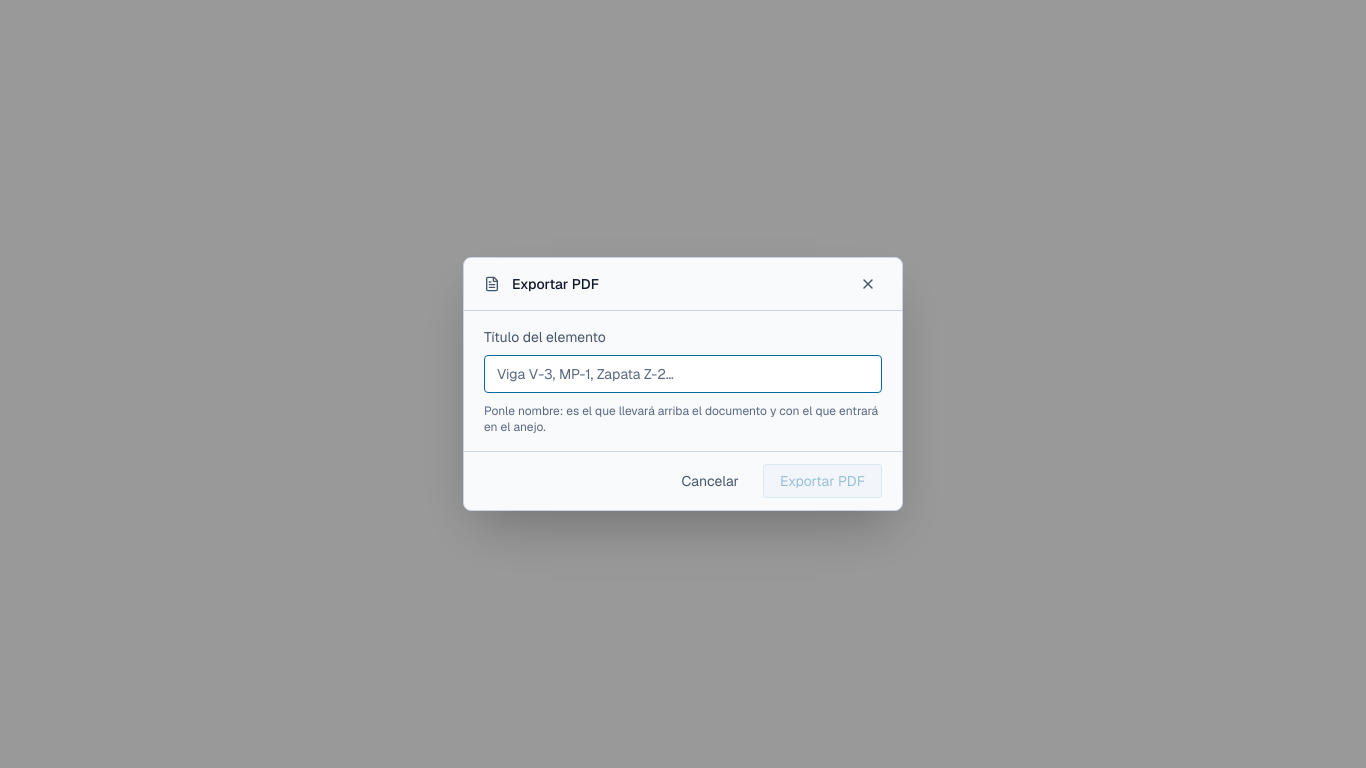
Test: TitlePromptModal › sin esas props sigue diciendo PDF y prometiendo .pdf
Type "Nave taller" into the field labelled "Título del elemento". click: (683, 374)
box: left=484, top=355, right=882, bottom=393
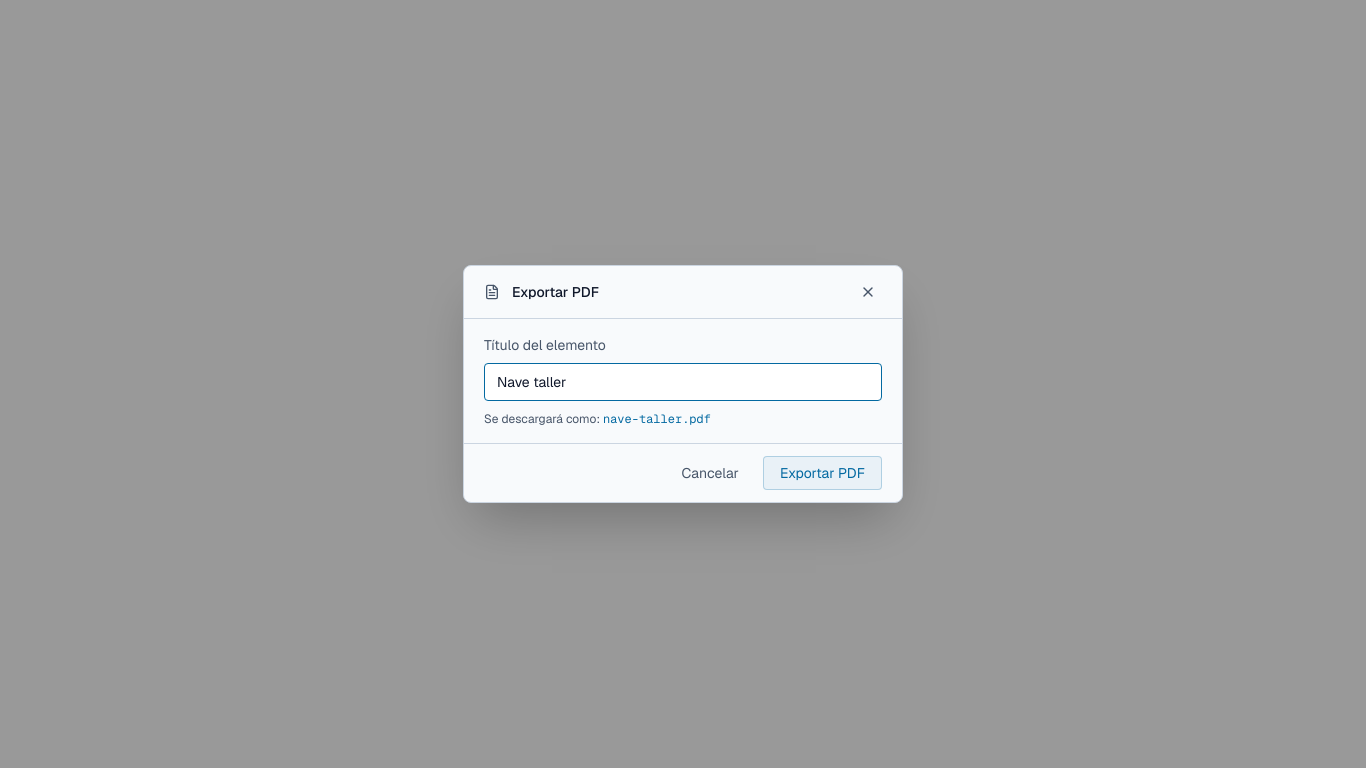
Expected: the button "Exportar PDF" is shown, left=763, top=456, right=882, bottom=490
Now the text "nave-taller.pdf" is shown, box left=603, top=411, right=711, bottom=427
